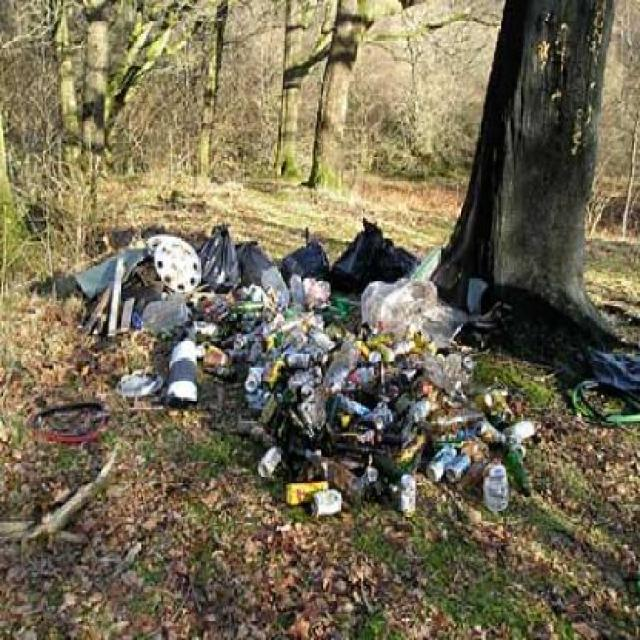garbage: (299, 279, 515, 514), (103, 228, 359, 387)
